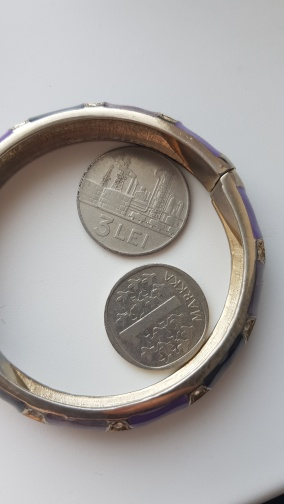coin: (76, 146, 192, 257), (104, 262, 211, 370)
